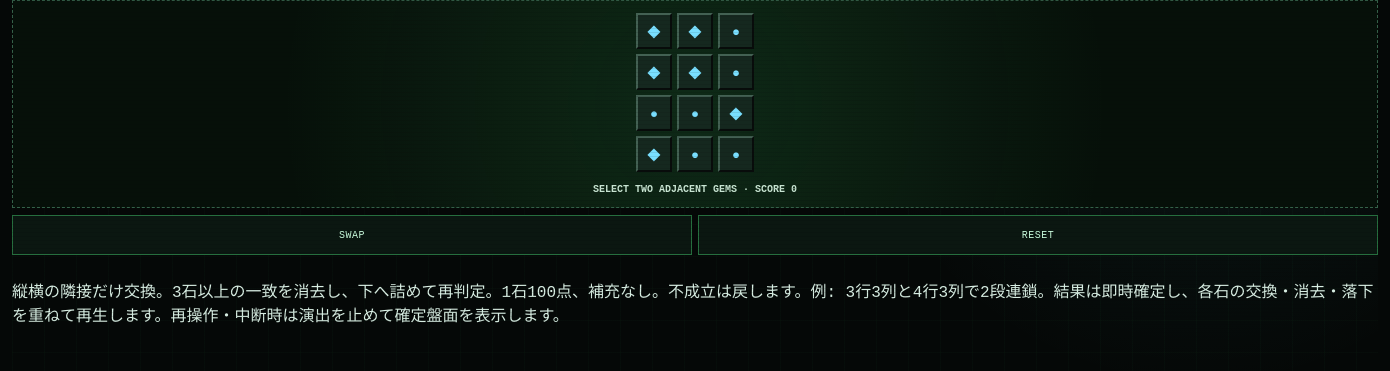
Test: actually matches adjacent 5/8, scores removed cells and restores on reset
This screenshot has width=1390, height=371.
Click the 2nd button "●" at (736, 72), box [718,54,754,90]
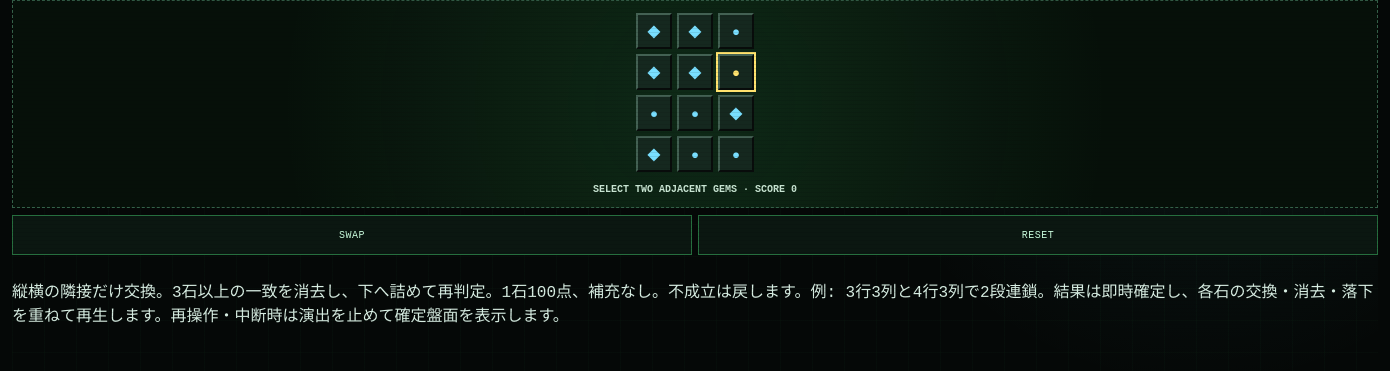
Click the 5th button "◆" at (736, 113), box [718,95,754,131]
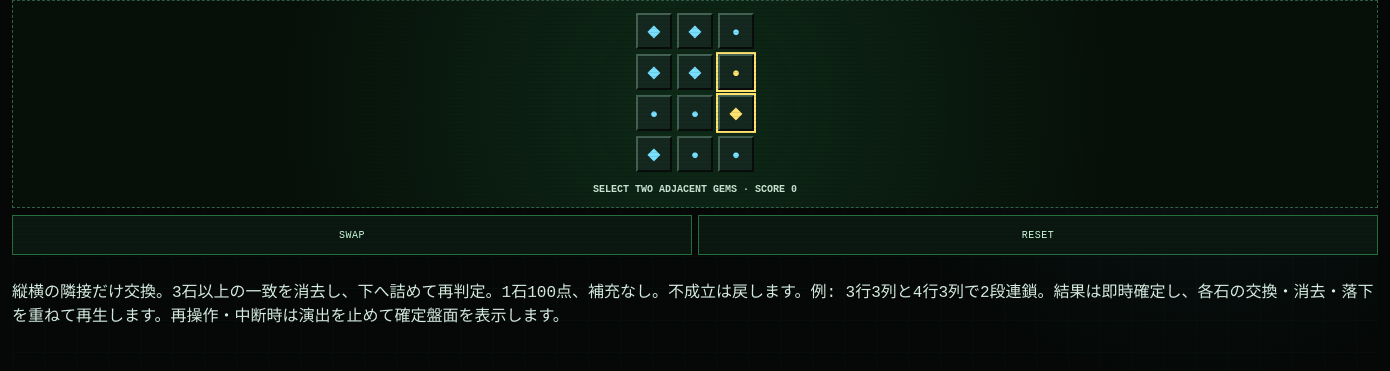
Click the button "SWAP" at (352, 235), box [12,215,692,255]
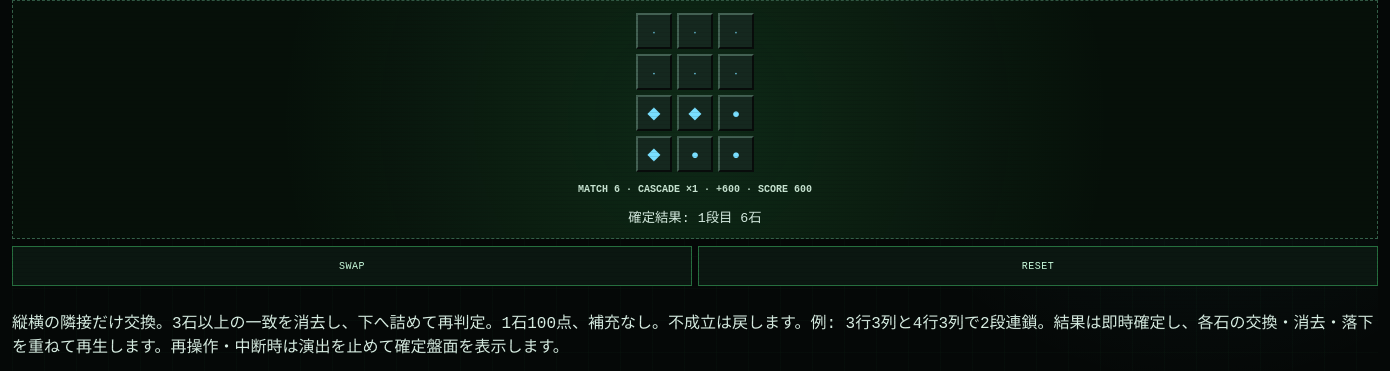
Click the button "RESET" at (1038, 266), box [698,246,1378,286]
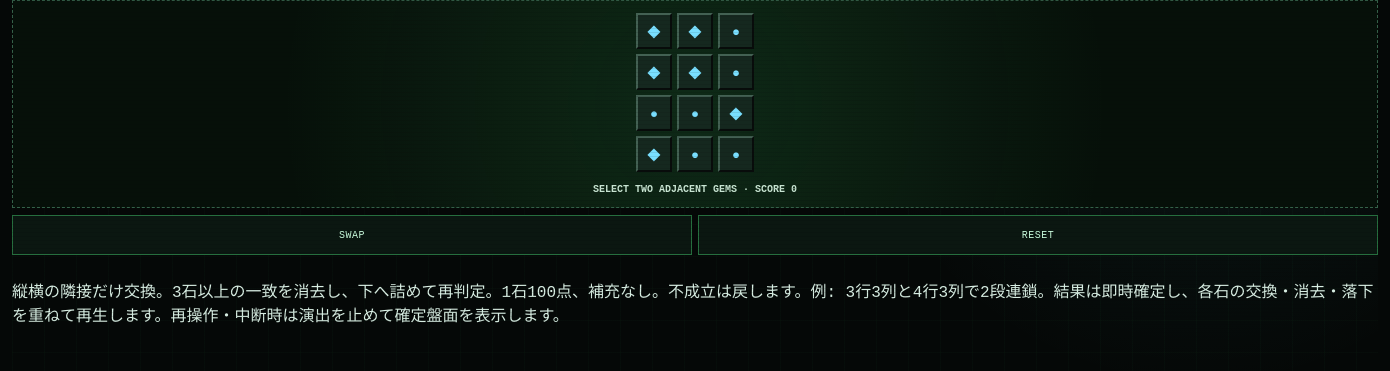
Check: the text "SELECT TWO ADJACENT GEMS · SCORE 0" is shown, box [593,184,797,195]
